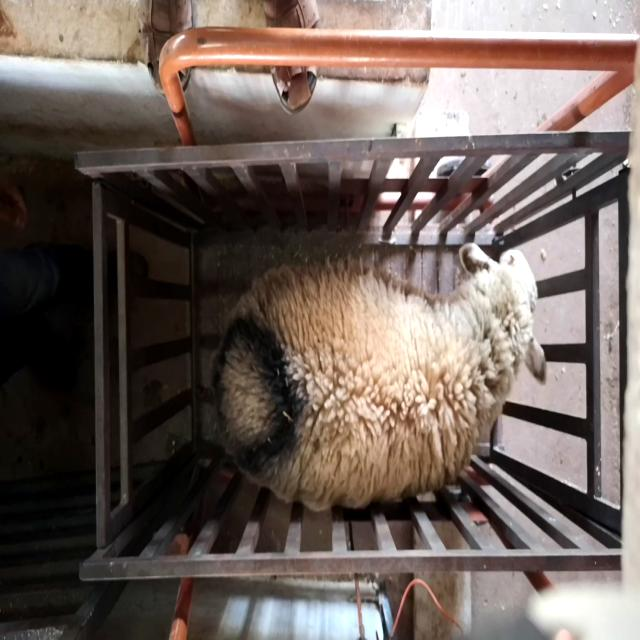sheep: (210, 242, 548, 512)
